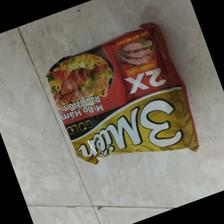3mien: (45, 22, 200, 165)
